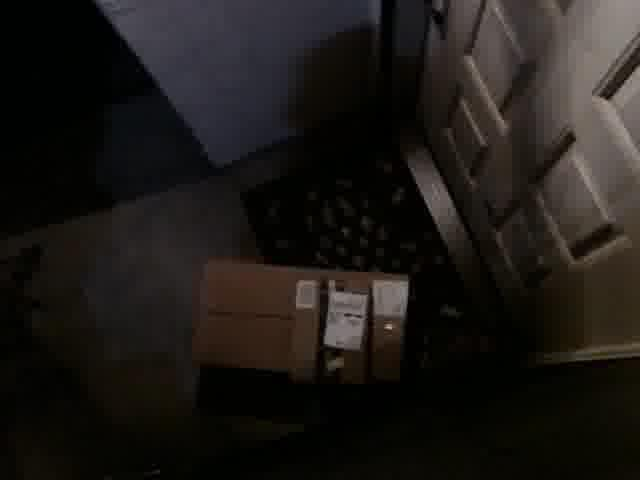box: (190, 254, 408, 390)
